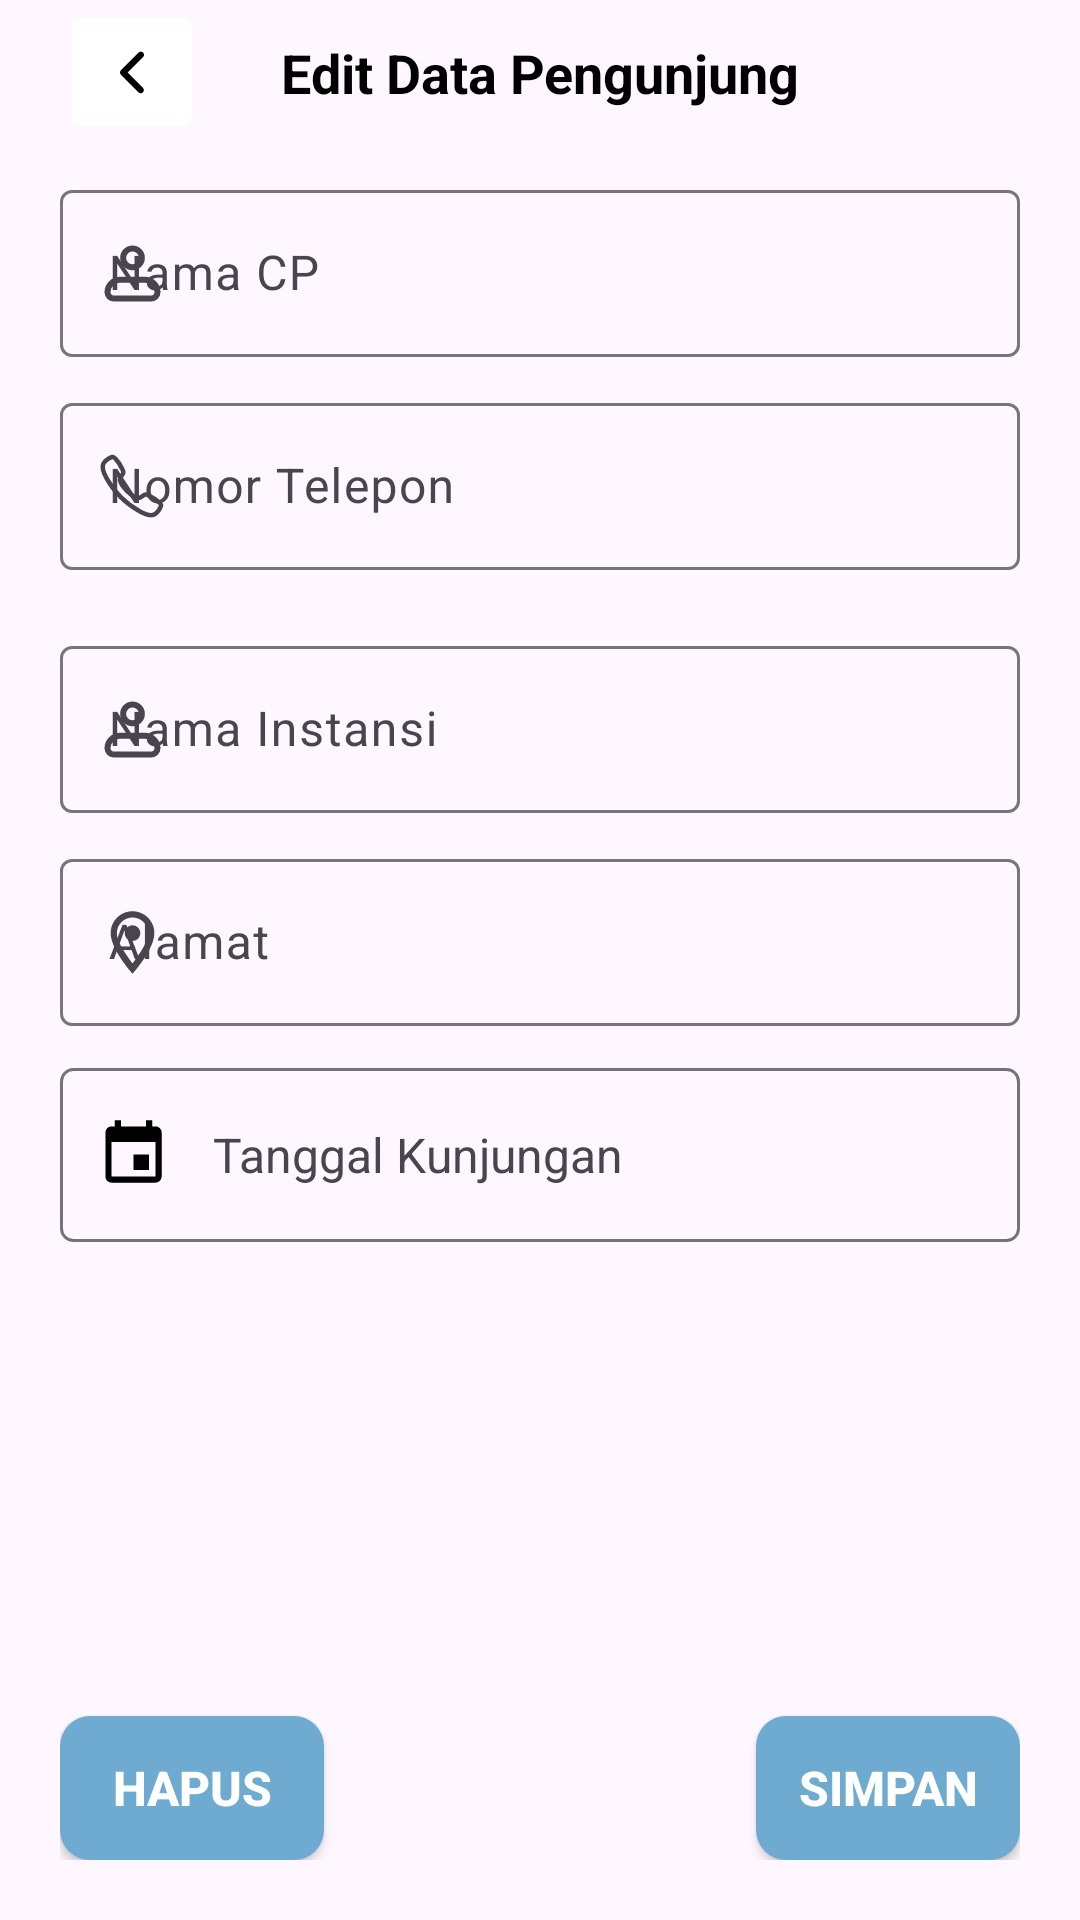

Where icons sit on this 1080px×1920px app screen, as (x1, y1, x2, y2):
back: (120, 51, 144, 94)
